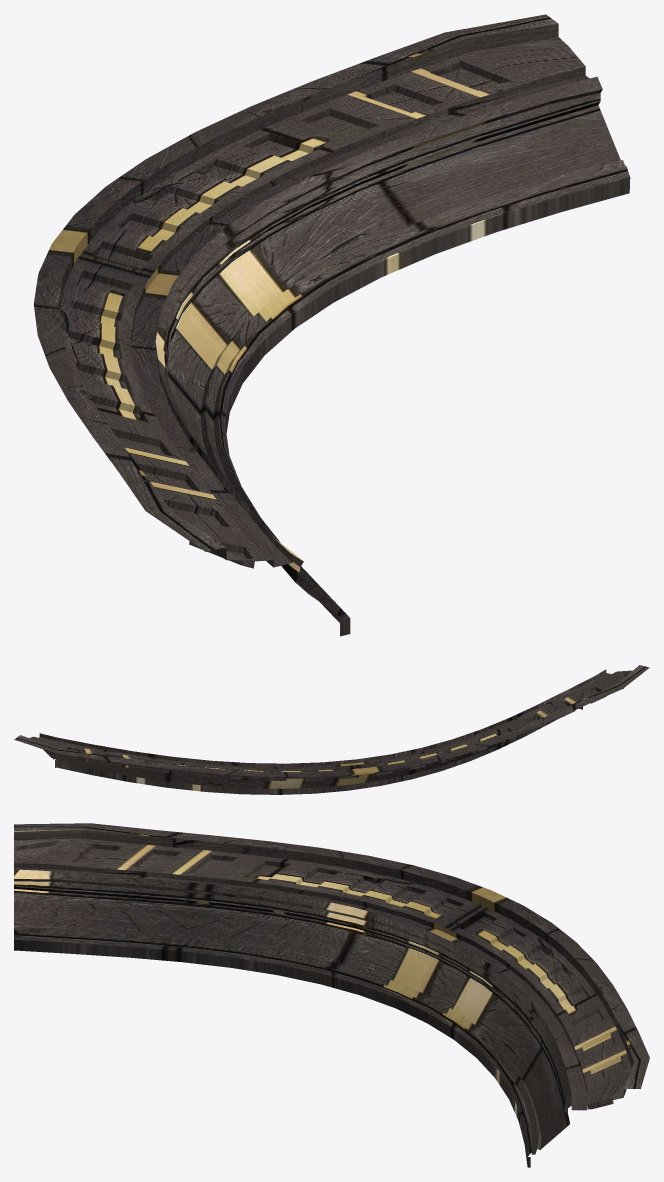
The model's file is Moulding_Metal01_IB.FBX.
3 views of the same model, one above another, from view 1: azimuth 30°, elevation 25°; view 2: azimuth 150°, elevation 25°; view 3: azimuth 270°, elevation 25° (orthographic). The views are drawn at different scales.
Parts seen in each view (by area): view 1: Moulding90degreeInnerBevel001; view 2: Moulding90degreeInnerBevel001; view 3: Moulding90degreeInnerBevel001.
Boxes of the visible parts, x1=… form: Moulding90degreeInnerBevel001: x1=33, y1=14, x2=630, y2=636; Moulding90degreeInnerBevel001: x1=14, y1=665, x2=649, y2=794; Moulding90degreeInnerBevel001: x1=14, y1=823, x2=649, y2=1167.
Bounding box in the file's own units: 316 × 43.74 × 320.
